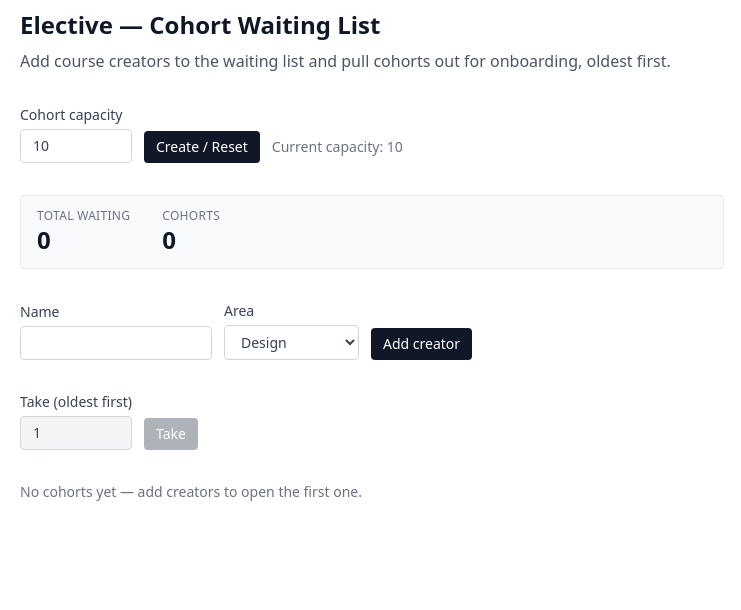
waiting-list forms › creating with a new capacity resets the list
Type "Ada" into the field with test id "name-input".
click(116, 343); type("Ada")  # box [20,326,212,360]
Select "Design" in the dropdown with test id "area-select" at (292, 343), box [224,325,359,360]
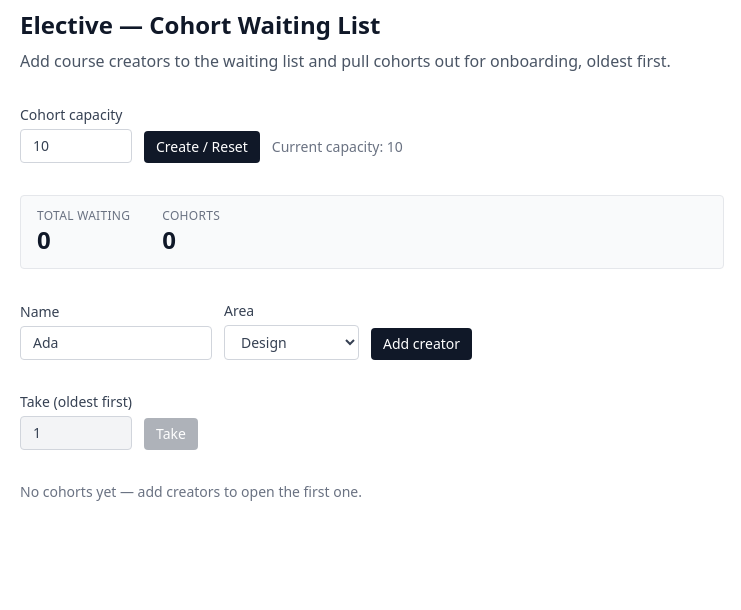
Click the button with test id "add-btn".
click(422, 344)  # box [371,328,472,360]
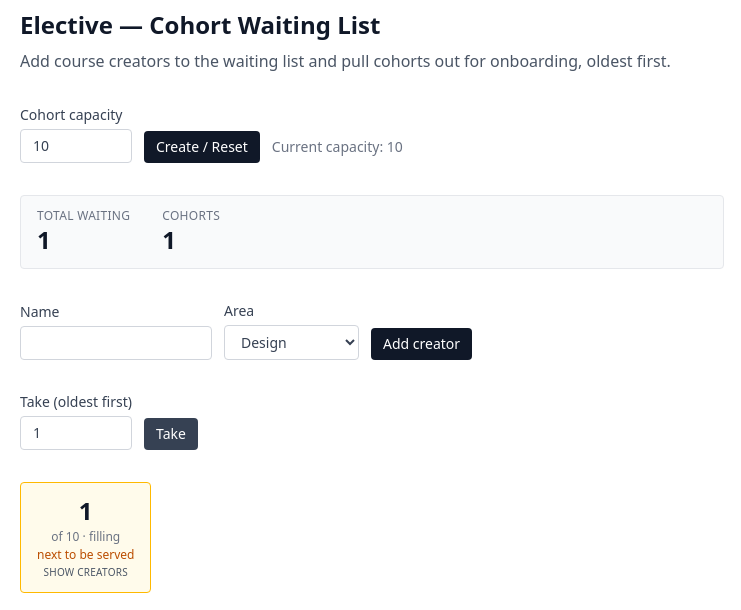
Type "Grace" into the field with test id "name-input".
click(116, 343); type("Grace")  # box [20,326,212,360]
Select "Design" in the dropdown with test id "area-select" at (292, 343), box [224,325,359,360]
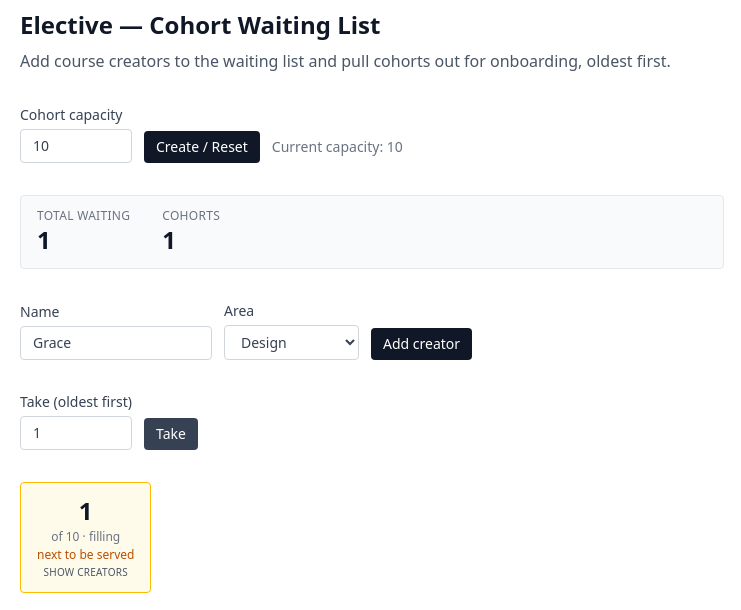
Click the button with test id "add-btn".
click(422, 344)  # box [371,328,472,360]
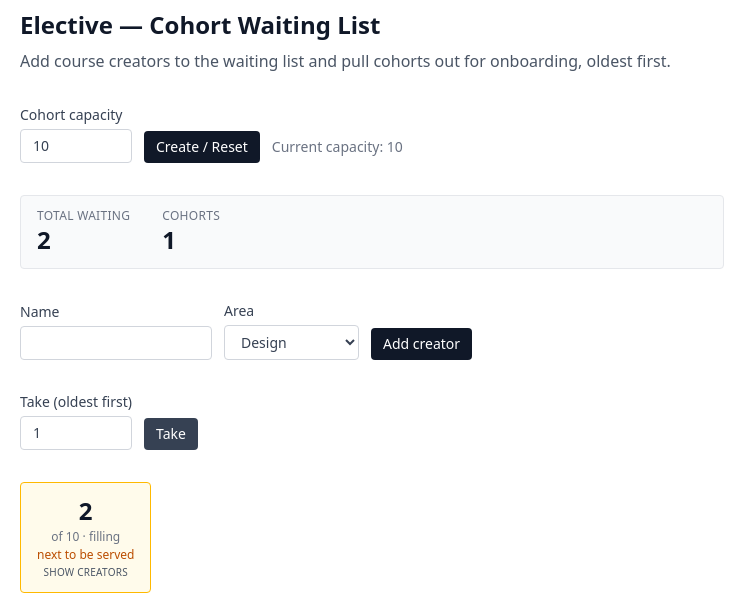
Now the text with test id "total" reads "2", box [37,223,51,256]
Replace the text in the field with test id "capacity-input" with "5" at (76, 146), box [20,129,132,163]
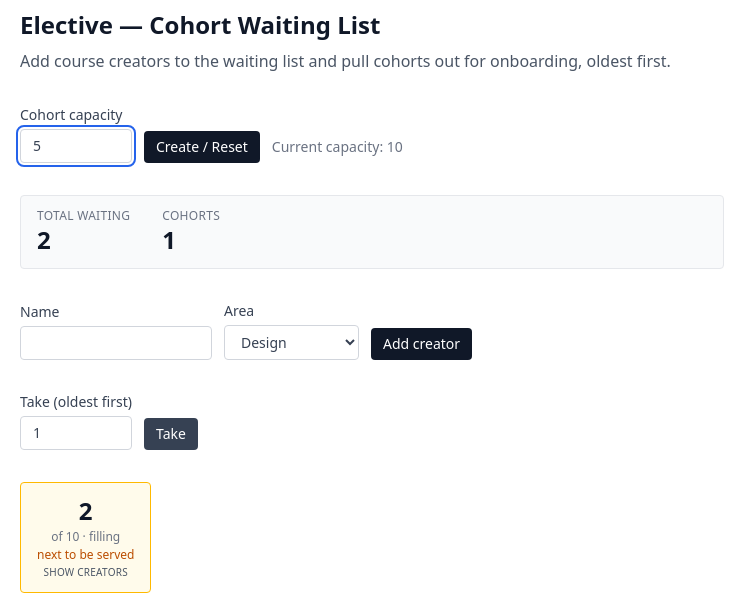
Click the button with test id "create-btn".
click(202, 147)  # box [144,131,260,163]
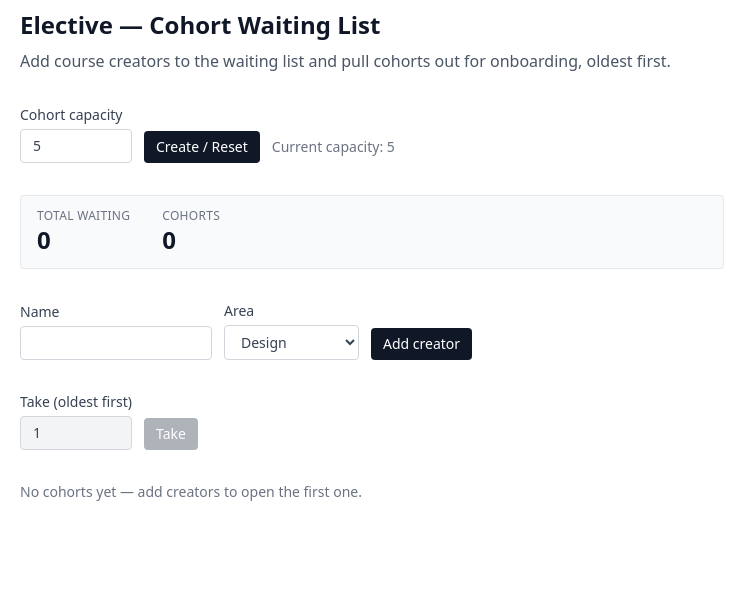
Now the text with test id "total" reads "0", box [37,223,51,256]
Now the text "Current capacity: 5" is shown, box [272,137,395,163]
